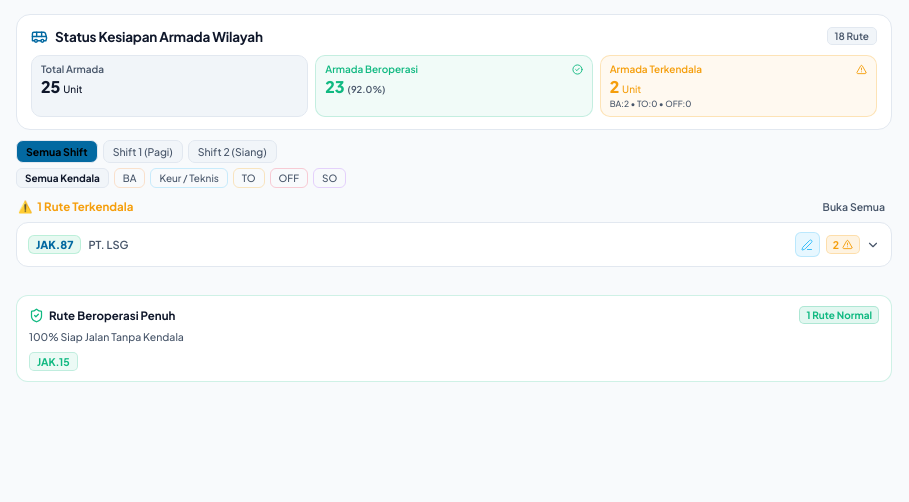
MonitoringFleetStatusTab Component › resolves routes from routes prop when DB fleetShifts is empty (dual-source resolution)
Click the button "Buka Semua".
click(854, 207)  # box top-left (818, 198), bottom-right (890, 215)
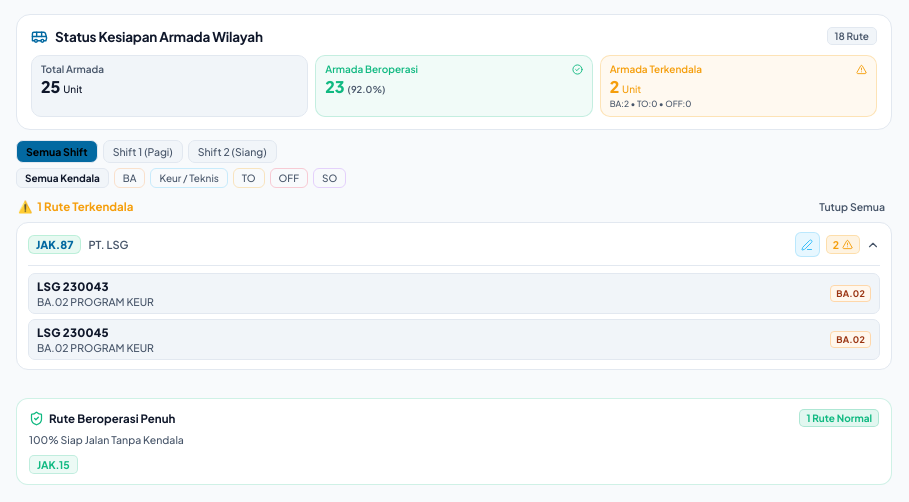
expect the text "LSG 230043" is shown: met, box top-left (37, 279), bottom-right (109, 294)
expect the text "LSG 230045" is shown: met, box top-left (37, 325), bottom-right (109, 340)
expect the text "BA.02" is shown: met, box top-left (37, 295), bottom-right (154, 308)
